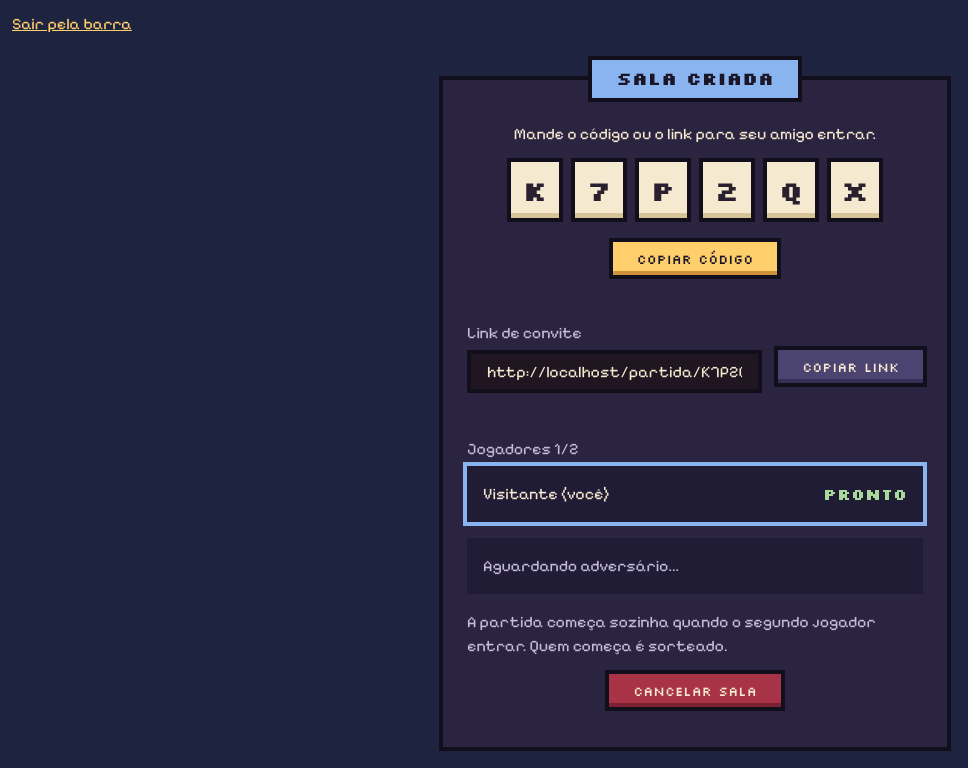
Scenario: sala de espera › cancelar fecha a sala e volta ao lobby
The width and height of the screenshot is (968, 768).
Click the button "Cancelar sala" at (695, 690), box [609,674,781,707]
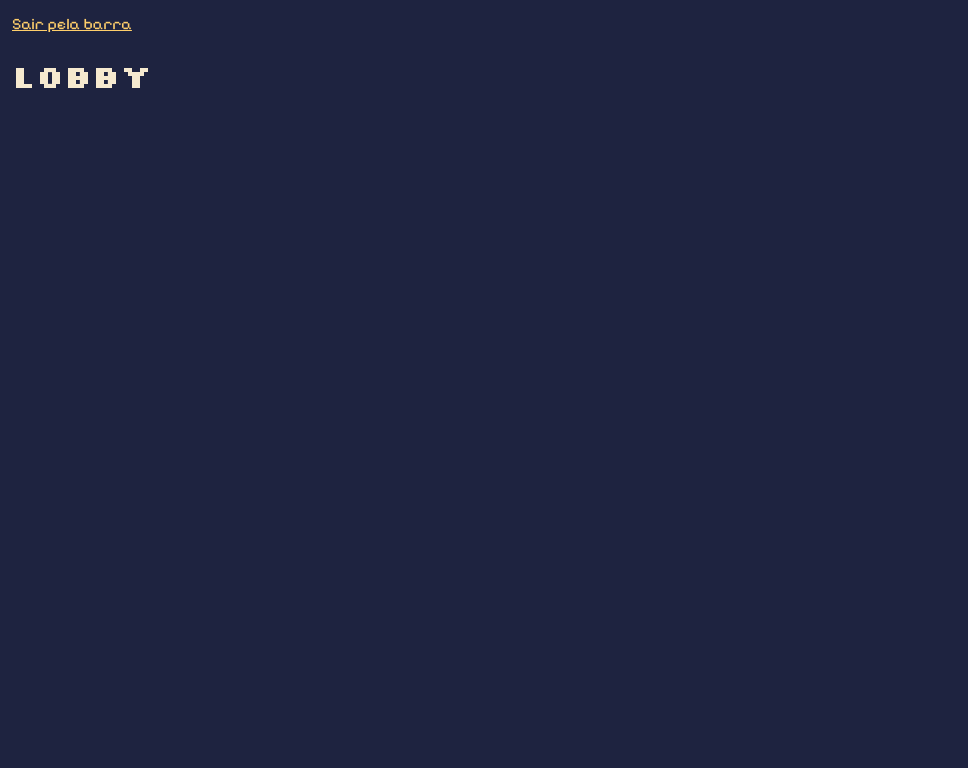
Expected: the heading "Lobby" is shown, [12,55,152,96]
